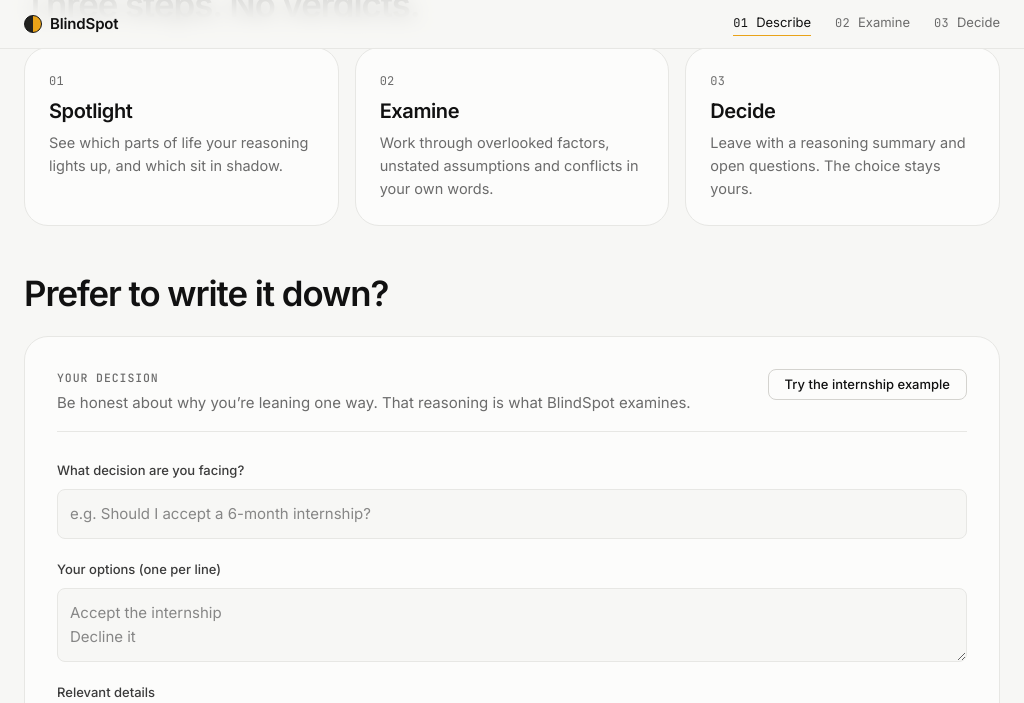
Scenario: App › shows a friendly error and keeps the input when the API fails
(page scrolled)
Click the button "Try the internship example" at (867, 384), box x1=768 y1=369 x2=967 y2=400
(page scrolled)
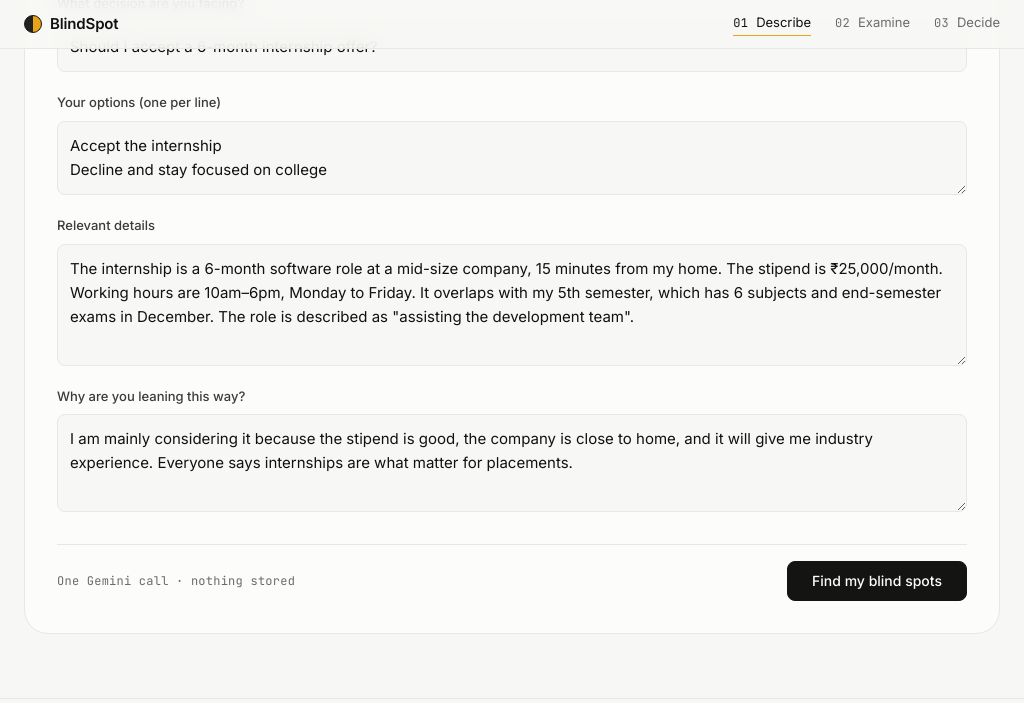
Click the button "Find my blind spots" at (877, 582), box x1=787 y1=562 x2=967 y2=602
(page scrolled)
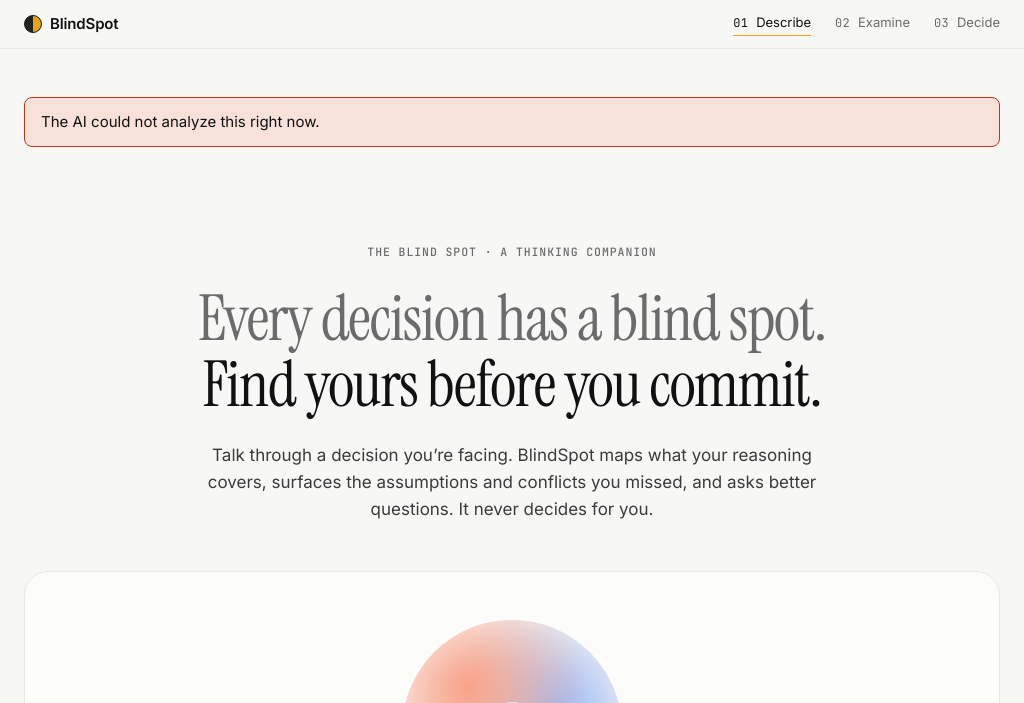
Expected: the message reads "The AI could not analyze this right now.", x1=41 y1=112 x2=320 y2=131
